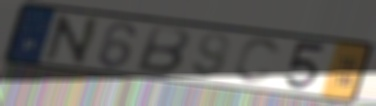5: (281, 40, 331, 92)
6: (95, 20, 139, 71)
9: (190, 32, 234, 80)
B: (133, 23, 192, 76)
C: (231, 36, 283, 86)
N: (42, 13, 103, 67)
